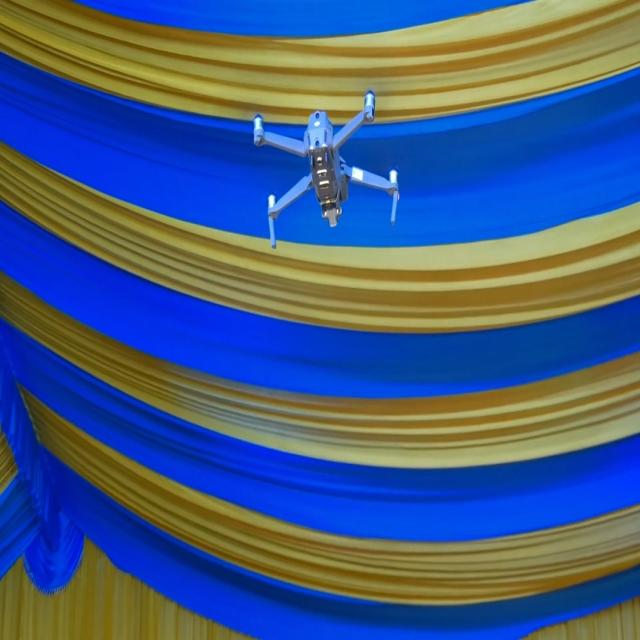Drone: (252, 90, 399, 250)
